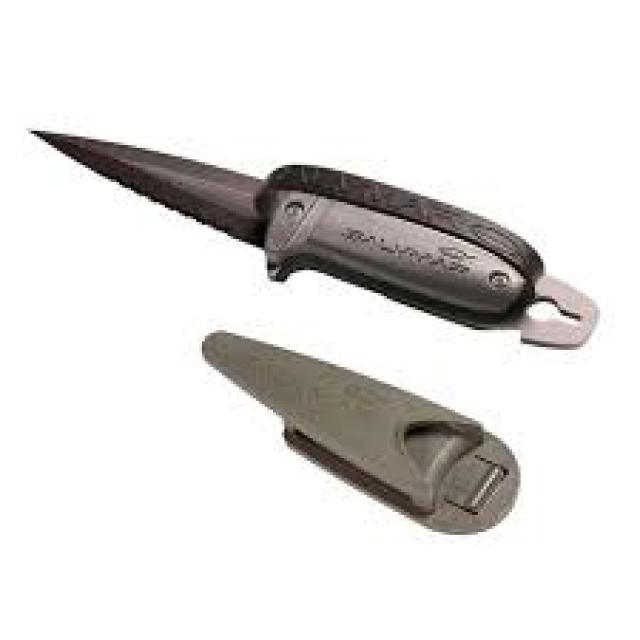knives: (23, 120, 600, 356), (194, 324, 524, 540)
